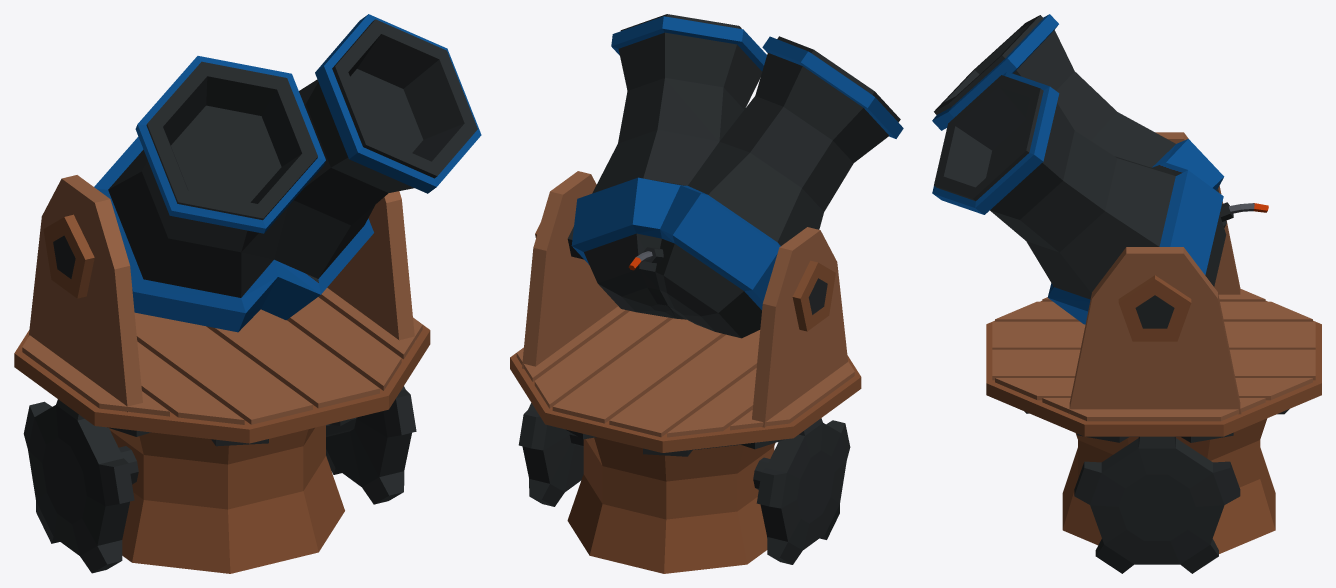
File: Cannon Level 2.FBX
3 views of the same model, side by side, from view 1: azimuth 30°, elevation 25°; view 2: azimuth 150°, elevation 25°; view 3: azimuth 270°, elevation 25° (orthographic). The views are drawn at different scales.
Visible parts, largest first — view 1: Rifle.002; view 2: Rifle.002; view 3: Rifle.002.
Part boxes in pixels (left/top/right/bottom): Rifle.002: left=14, top=14, right=481, bottom=573; Rifle.002: left=510, top=14, right=903, bottom=573; Rifle.002: left=932, top=14, right=1321, bottom=573.
Size of the model in its own units: 195 by 295 by 226.
1 material, 1 textured.
